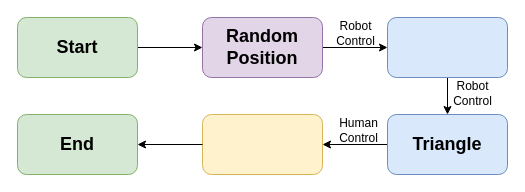
This 525x192 diagram has some shape labels left out. The centre of each missing label's shape, as x and y in pixels:
Following Commands: point 262,144
Straight Line: point 447,47
